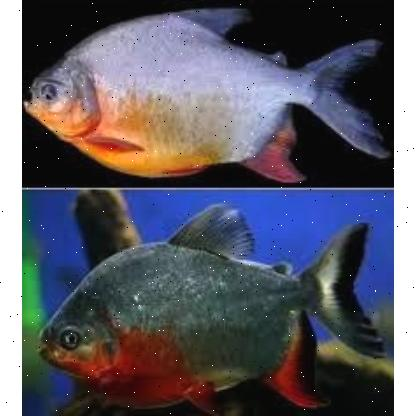ikan-pacu: (34, 218, 376, 402), (27, 8, 364, 178)
